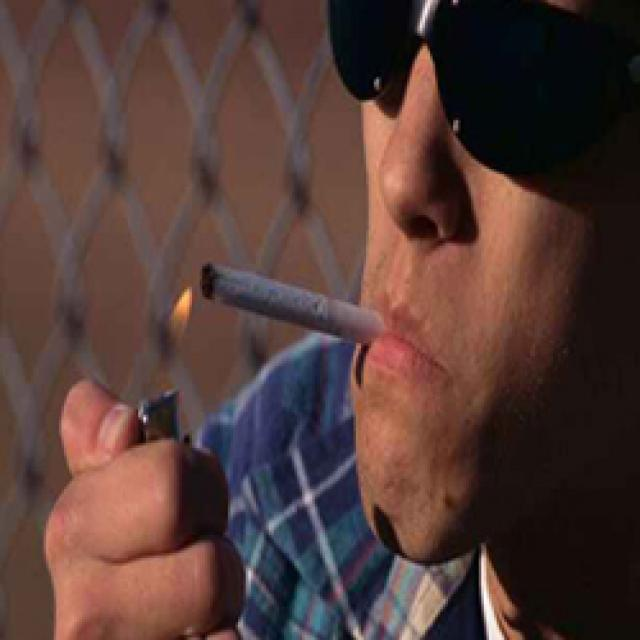Smooking: (190, 254, 402, 360)
